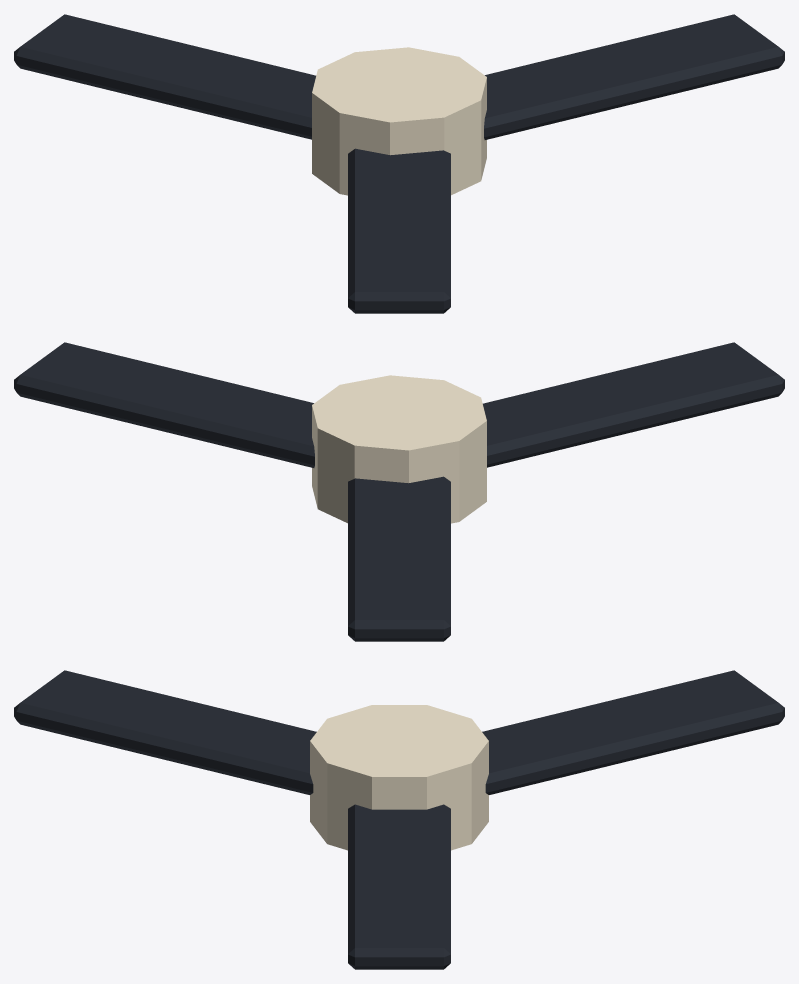
Rendered from DroneRotor.fbx.
3 views of the same model, one above another, from view 1: azimuth 30°, elevation 25°; view 2: azimuth 150°, elevation 25°; view 3: azimuth 270°, elevation 25° (orthographic).
Visible parts, largest first — view 1: Body.003; view 2: Body.003; view 3: Body.003.
Boxes of the visible parts, left/top/right/bottom form: Body.003: left=14, top=14, right=784, bottom=313; Body.003: left=14, top=342, right=784, bottom=641; Body.003: left=14, top=670, right=784, bottom=969.
Bounding box in the file's own units: 0.9747 × 0.13 × 1.12.
